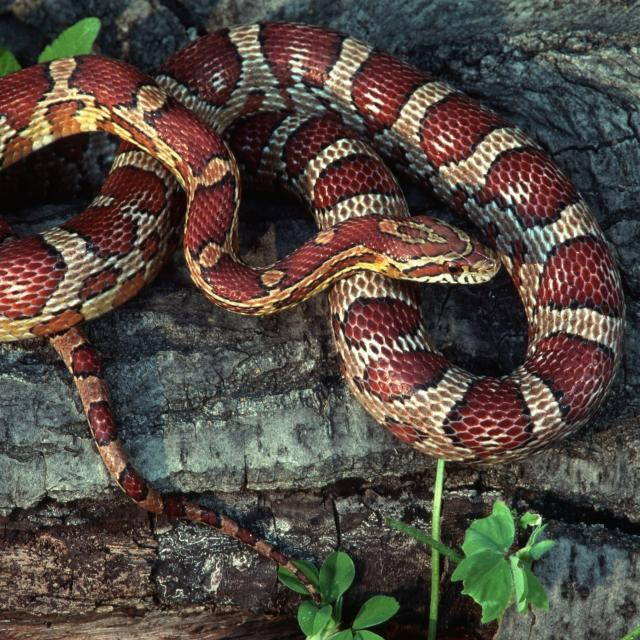Snake: (0, 20, 628, 510)
